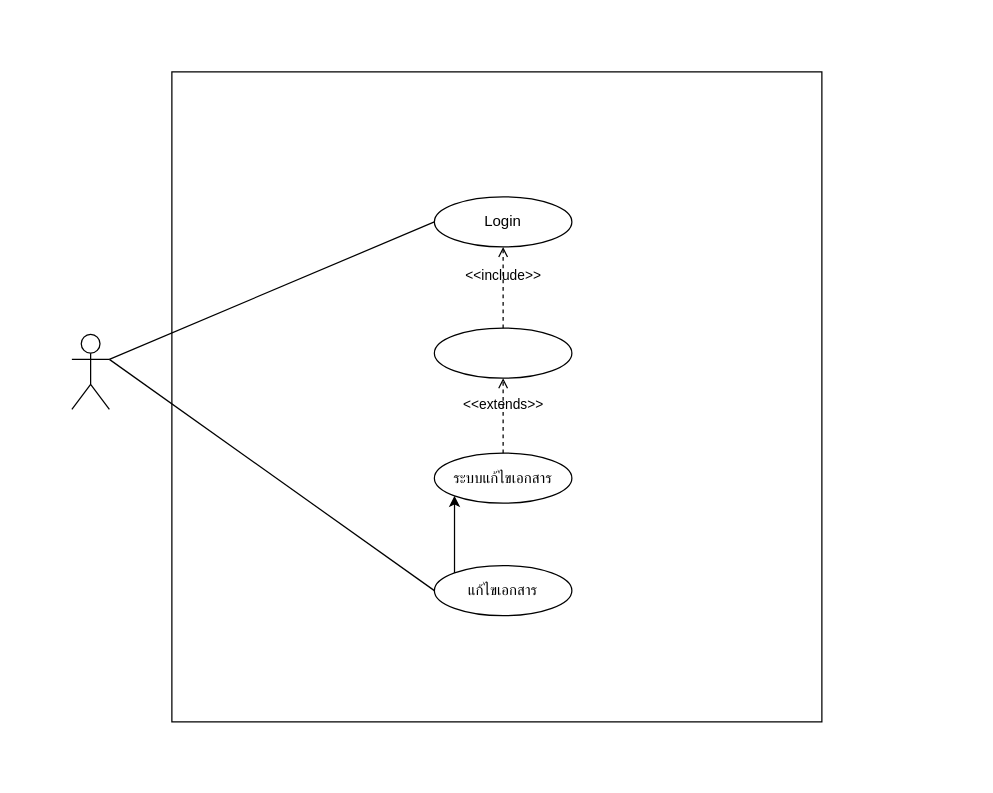
The diagram is 993 pixels wide and 793 high, and some of its shapes have lost their labels. The centre of each missing label's shape, as x and y in pixels:
"ระบบค้นหาเอกสาร" goes at point (502, 352).
"เจ้าหน้าที่" goes at point (90, 371).
